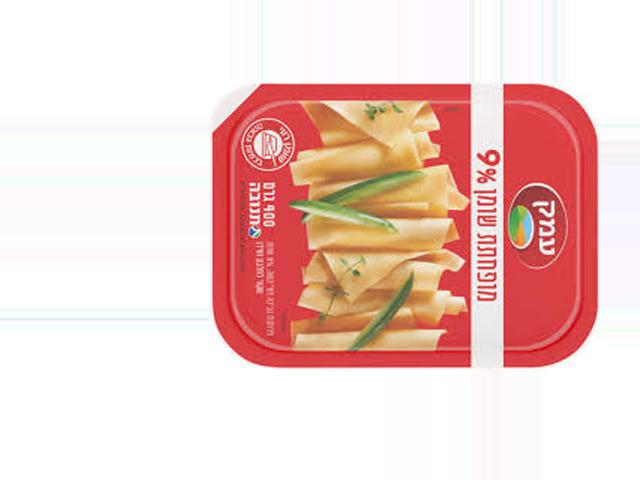cheese: (210, 84, 598, 370)
